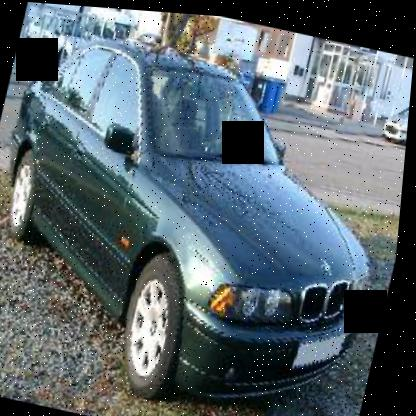not_emergency: (0, 24, 414, 415)
